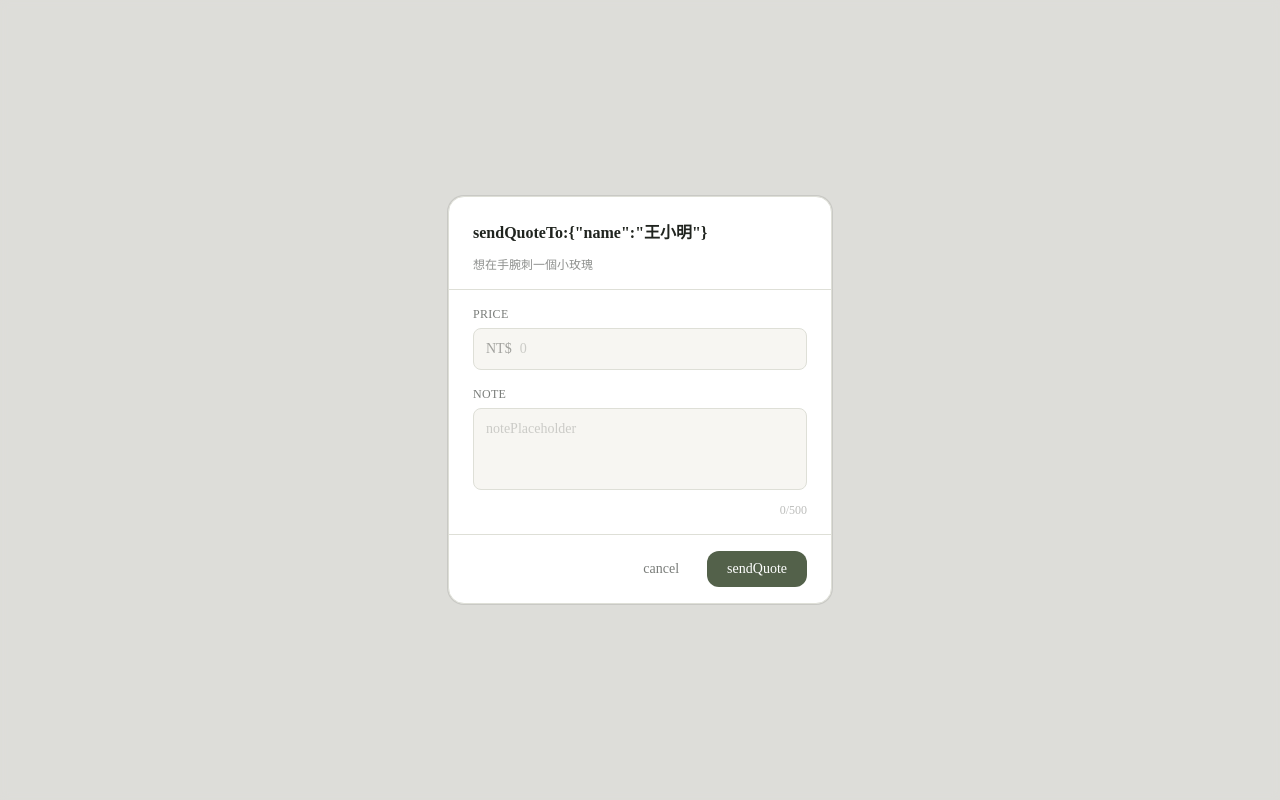
Test case: QuoteFormModal › clears price validation error when user types a new value
# Trigger validation error
Click the button "sendQuote" at (757, 569), box [707, 551, 807, 587]
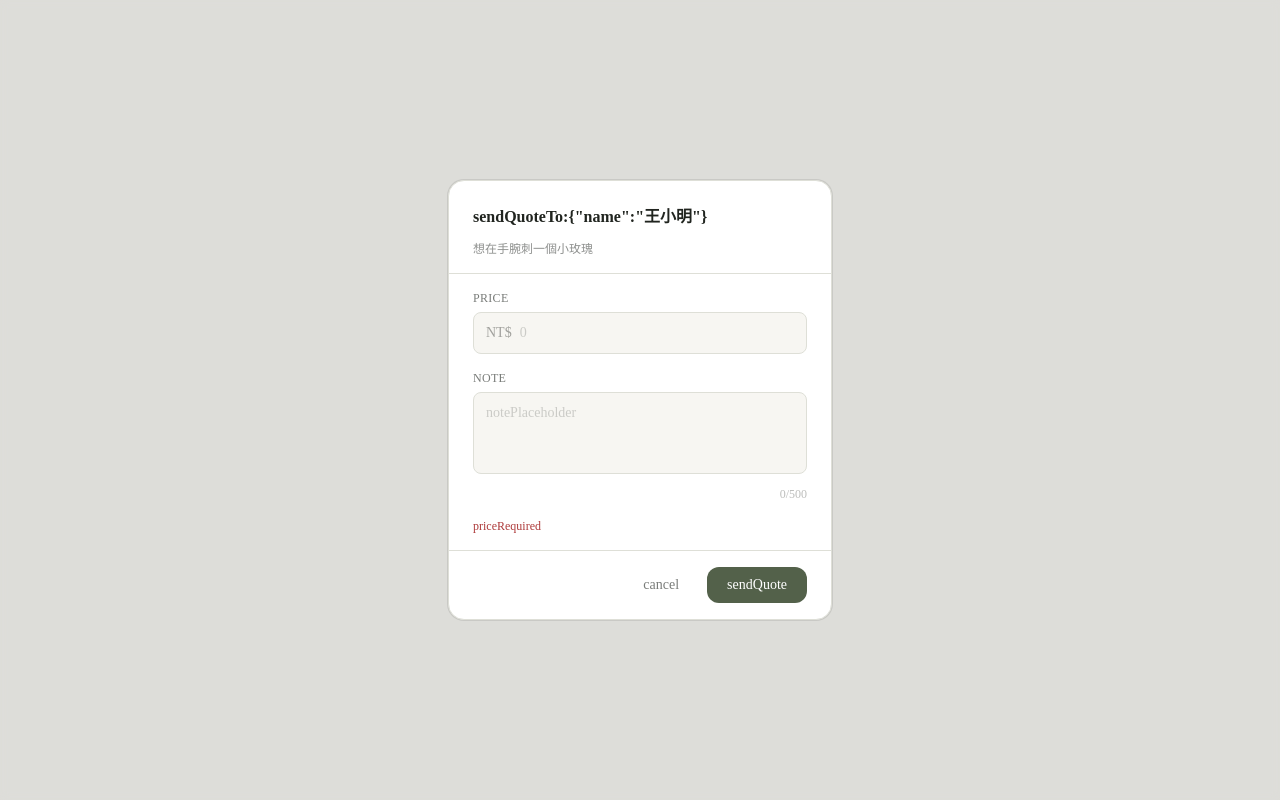
Check: the text "priceRequired" is shown, box [473, 519, 541, 533]
# Typing in the price field should clear the error
Type "1" into the number field labelled "price" at (659, 333), box [512, 313, 806, 353]
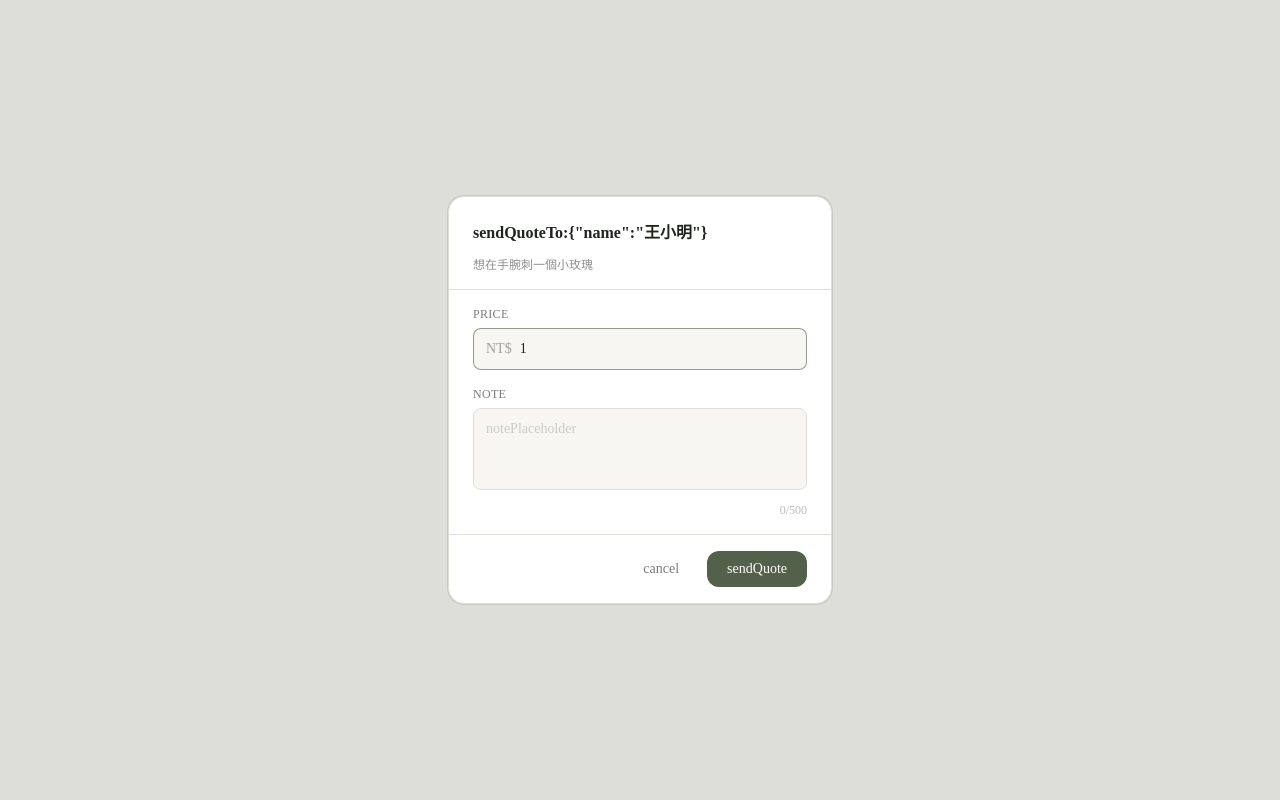
Check: the text "priceRequired" is gone
